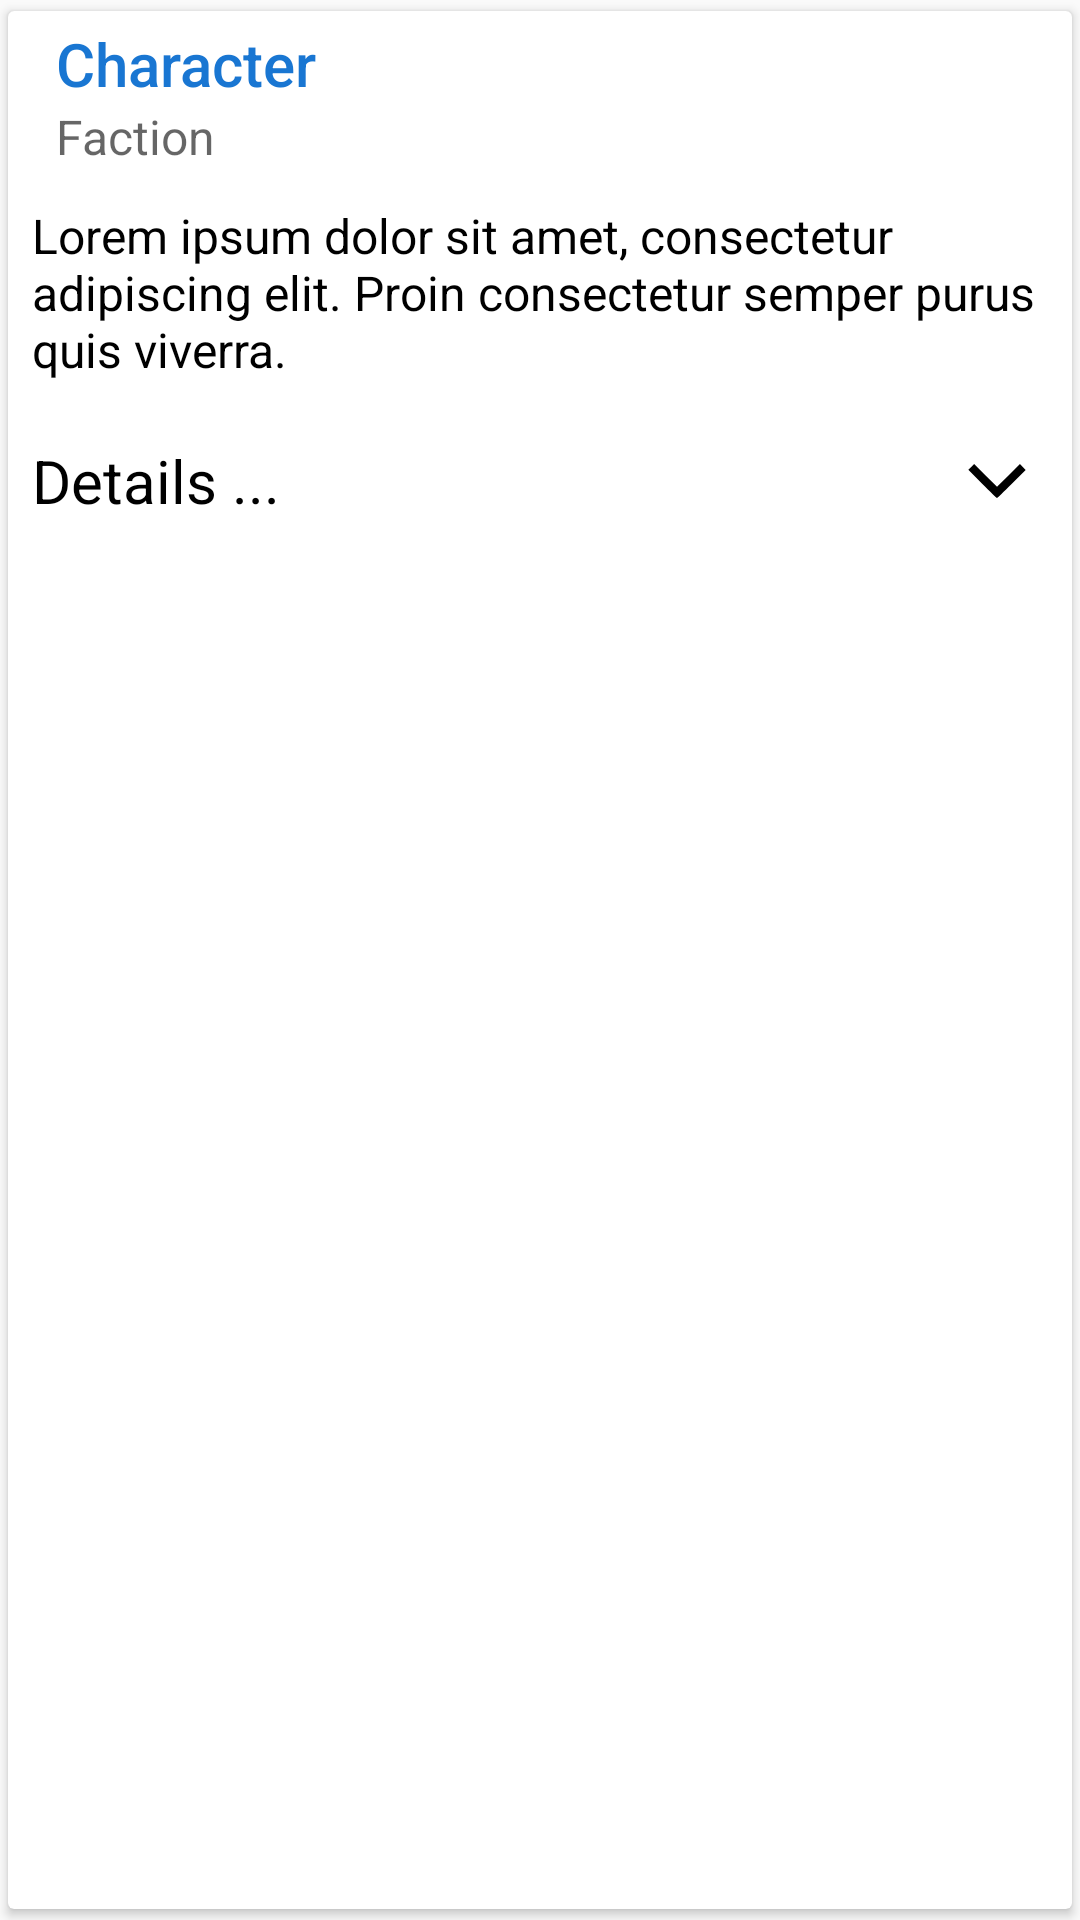

Where icons sit on this 1080 x 1920 app screen, as (x1, y1, x2, y2):
more: (968, 464, 1026, 498)
